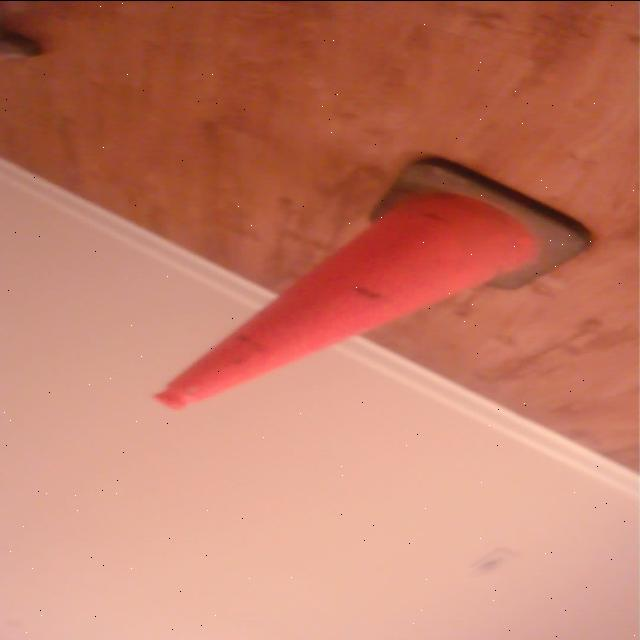traffic cone: (146, 153, 596, 417)
